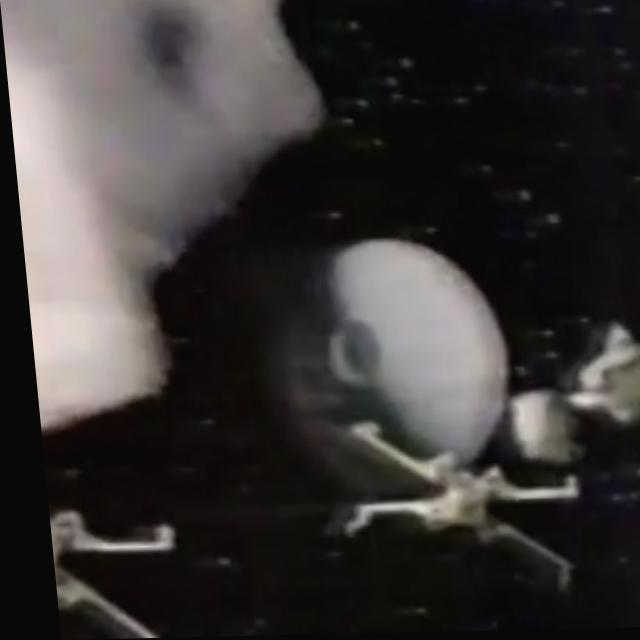deathStar: (264, 240, 509, 507)
